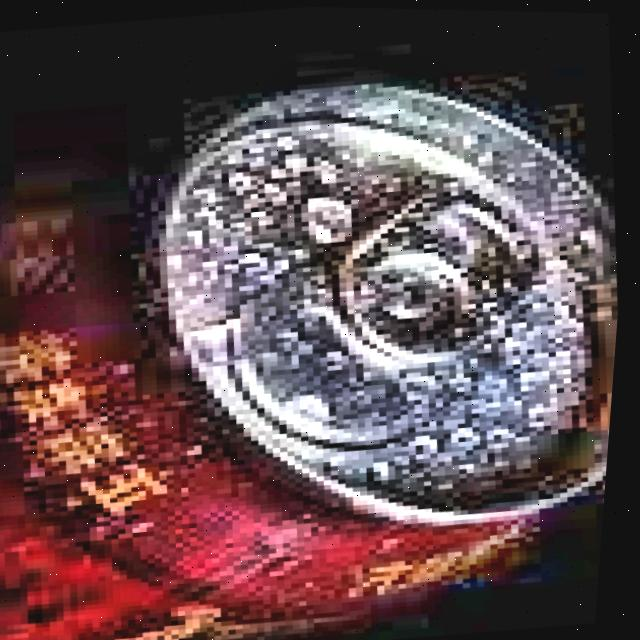metal: (0, 32, 638, 640)
